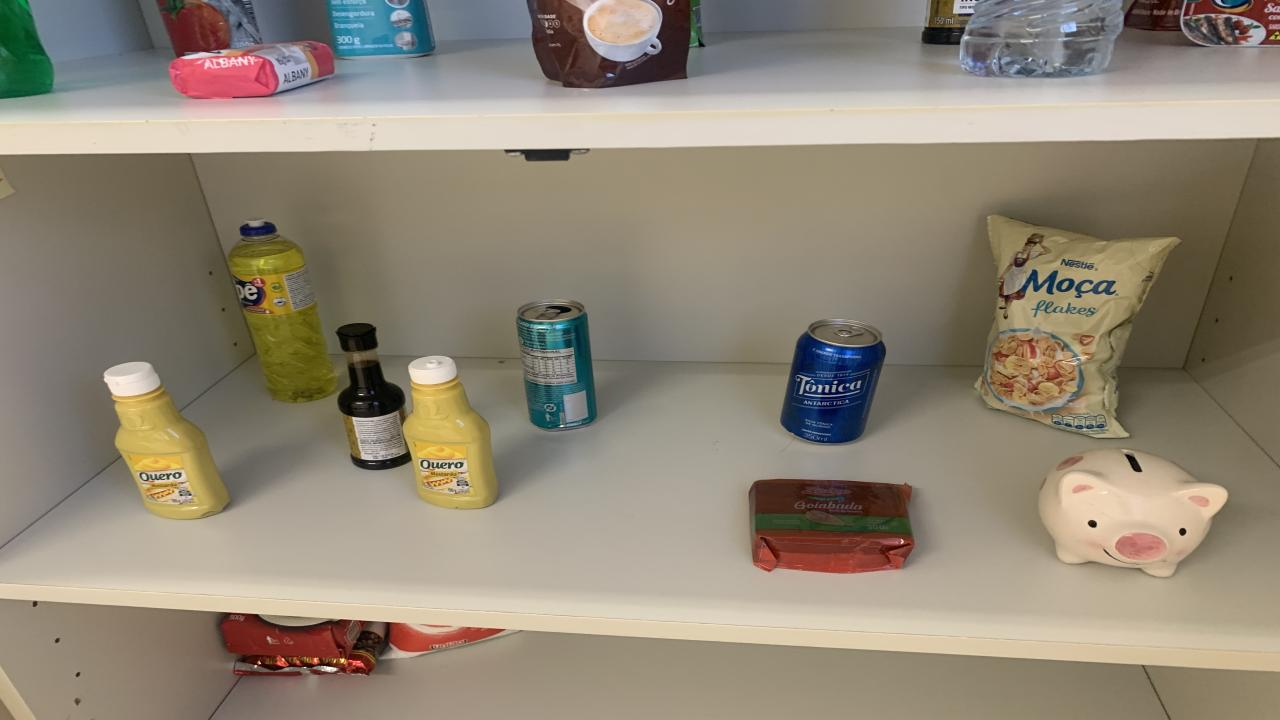Cleaner-Cleanup_Items: (328, 0, 435, 58)
Coffee-Pantry_Items: (528, 0, 690, 88)
Detergent-Cleanup_Items: (228, 221, 338, 403)
English_Sauce-Pantry_Items: (338, 322, 410, 469), (922, 0, 978, 45)
Flakes-Snacks: (975, 216, 1180, 439)
Guava-Snacks: (750, 480, 915, 574)
Mustard-Pantry_Items: (102, 362, 230, 519), (402, 354, 498, 508)
Pig_Safe-Miscellaneous: (1038, 448, 1228, 578)
Soap-Cleanup_Items: (170, 41, 335, 99)
Tea-Drinks: (518, 300, 598, 429)
Tomato_Sauce-Pantry_Items: (155, 0, 262, 56)
Tonic-Drinks: (780, 319, 885, 444)
Tuna_Can-Pantry_Items: (1180, 0, 1280, 47)
Water_Bottle-Drinks: (960, 0, 1125, 77)
